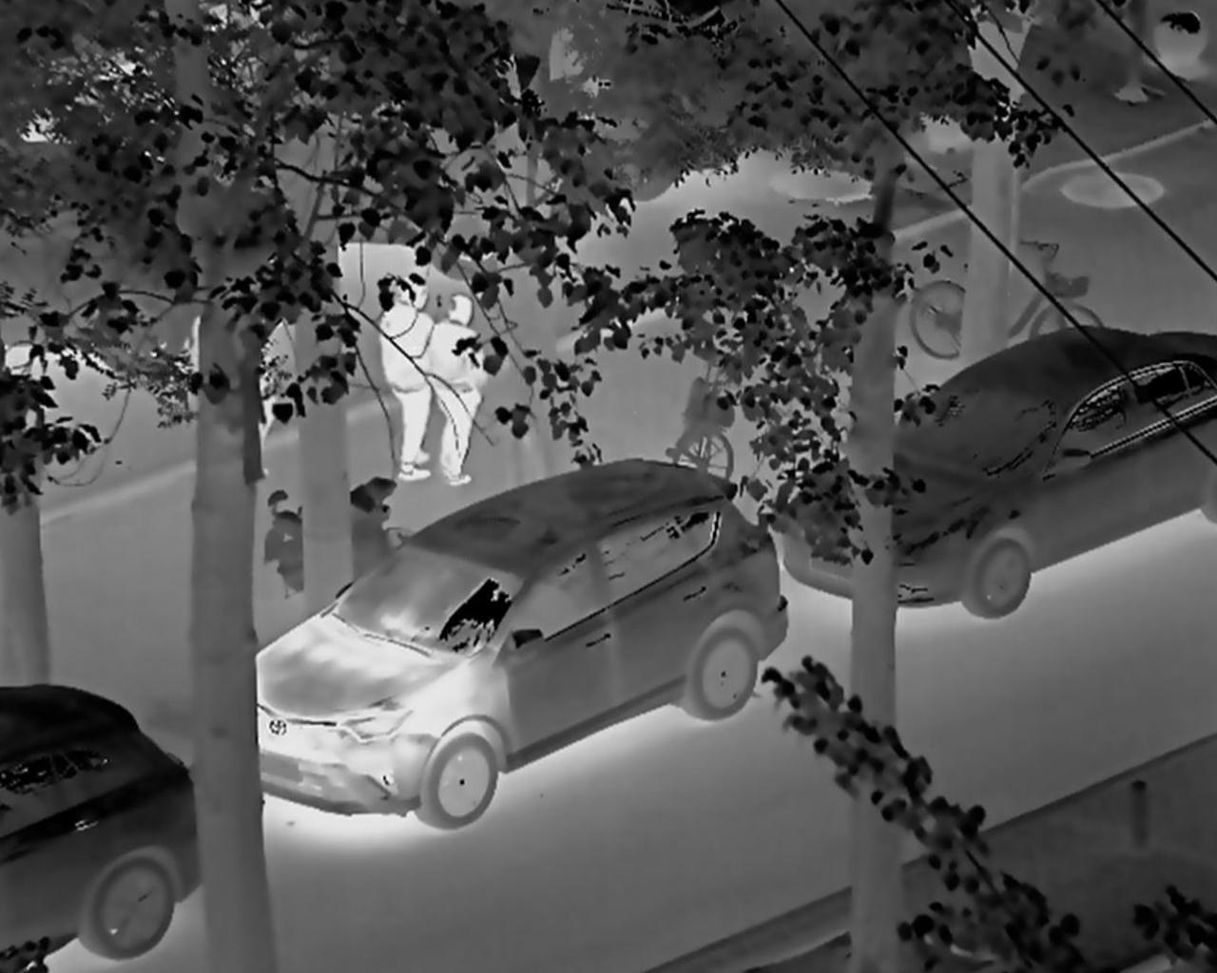person: (374, 263, 437, 485), (434, 277, 493, 498)
